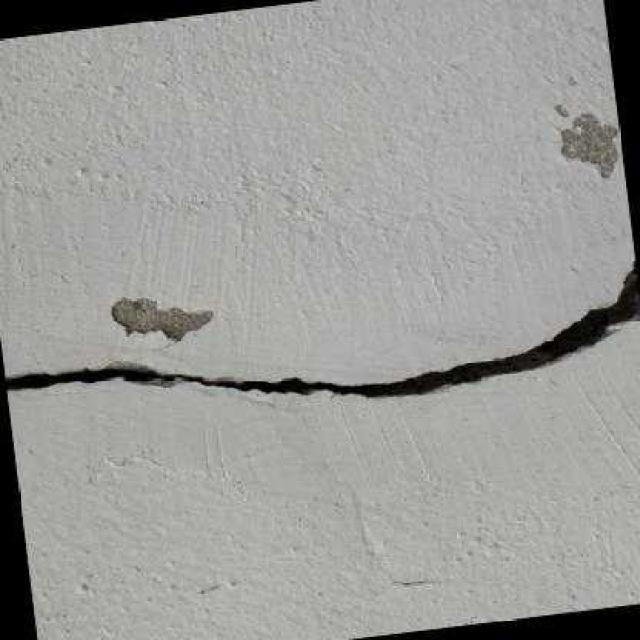D00: (4, 256, 640, 396)
